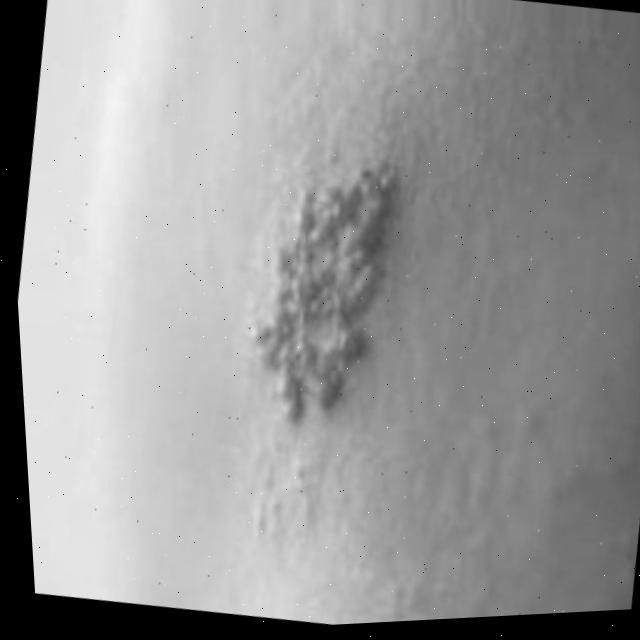Shingles: (221, 146, 432, 433)
